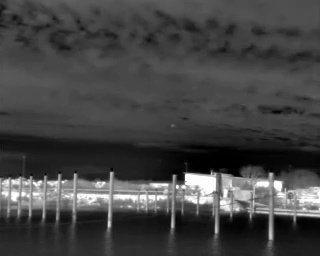BIRD: (169, 121, 177, 130)
